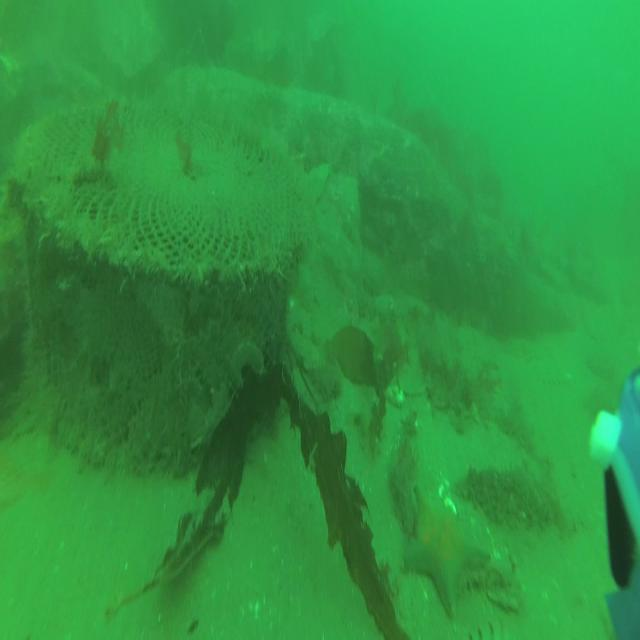starfish: (401, 482, 493, 617)
